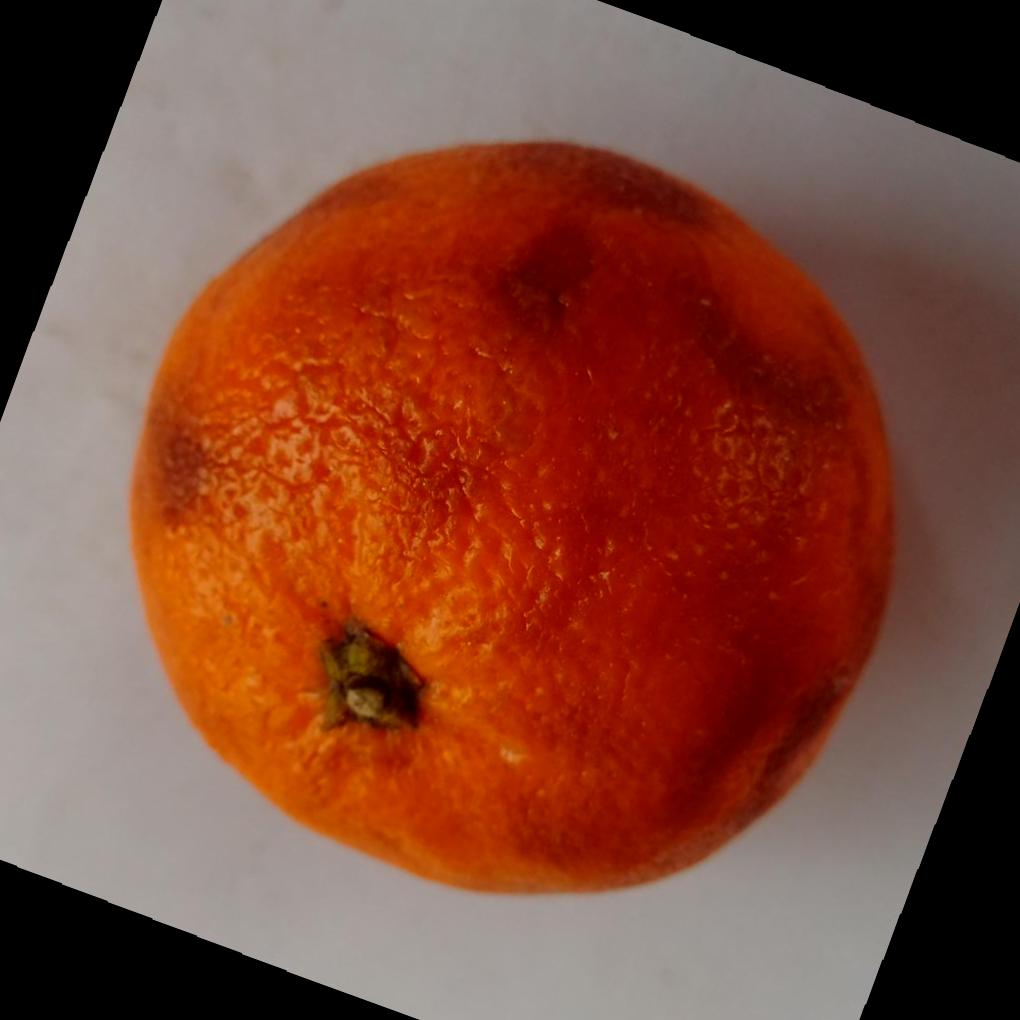FreshOrange: (127, 138, 899, 898)
